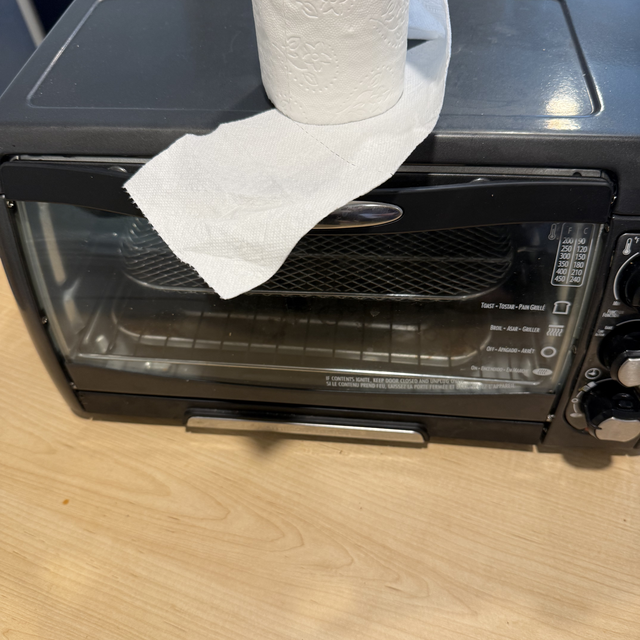Toaster Oven: (0, 0, 640, 461)
Toilet Paper: (246, 0, 447, 218)
